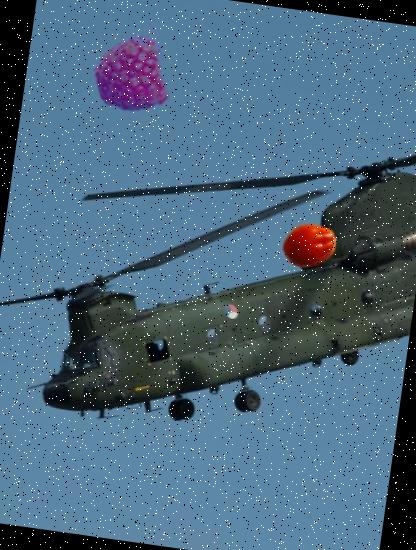Raspberry: (87, 32, 174, 120)
Tomato: (278, 214, 342, 278)
